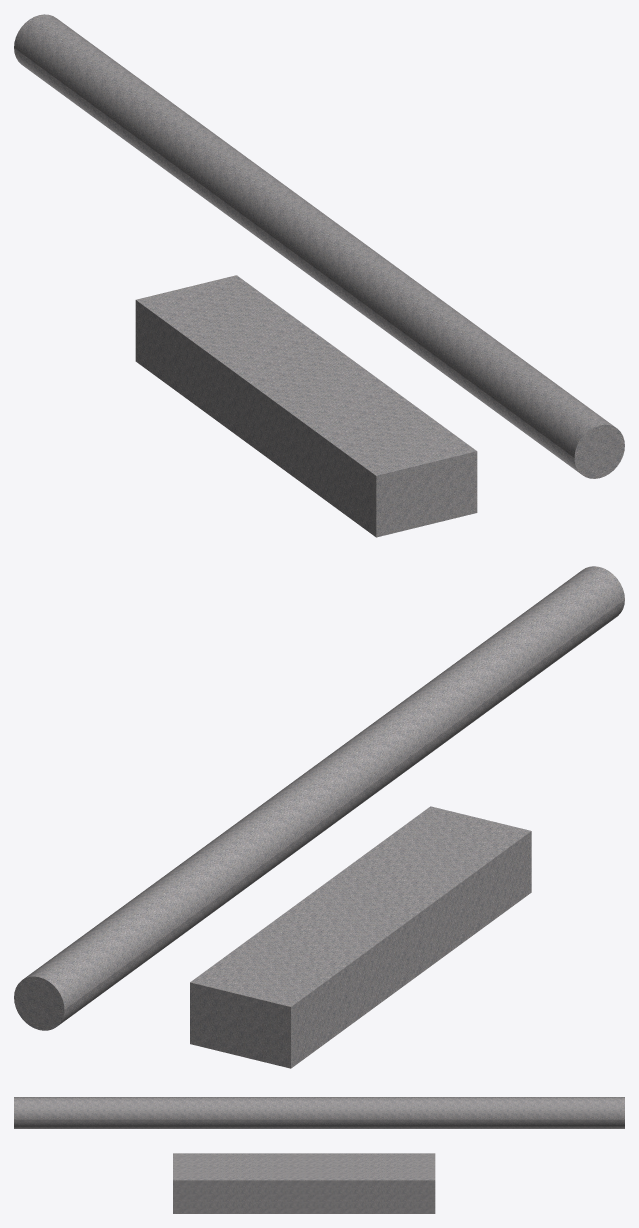
3 renders of one model, top to bottom at view 1: azimuth 30°, elevation 25°; view 2: azimuth 150°, elevation 25°; view 3: azimuth 270°, elevation 25°, orthographic. The views are drawn at different scales.
Visible parts, largest first — view 1: 0_3_1_2_1_2_0_0_3; view 2: 0_3_1_2_1_2_0_0_3; view 3: 0_3_1_2_1_2_0_0_3.
Part boxes in pixels (bbox=[...]): 0_3_1_2_1_2_0_0_3: bbox=[14, 14, 624, 537]; 0_3_1_2_1_2_0_0_3: bbox=[14, 566, 624, 1068]; 0_3_1_2_1_2_0_0_3: bbox=[14, 1097, 624, 1213].
Size of the model in its own units: 1.22 by 2.27 by 11.53.
2 materials, 2 textured.
